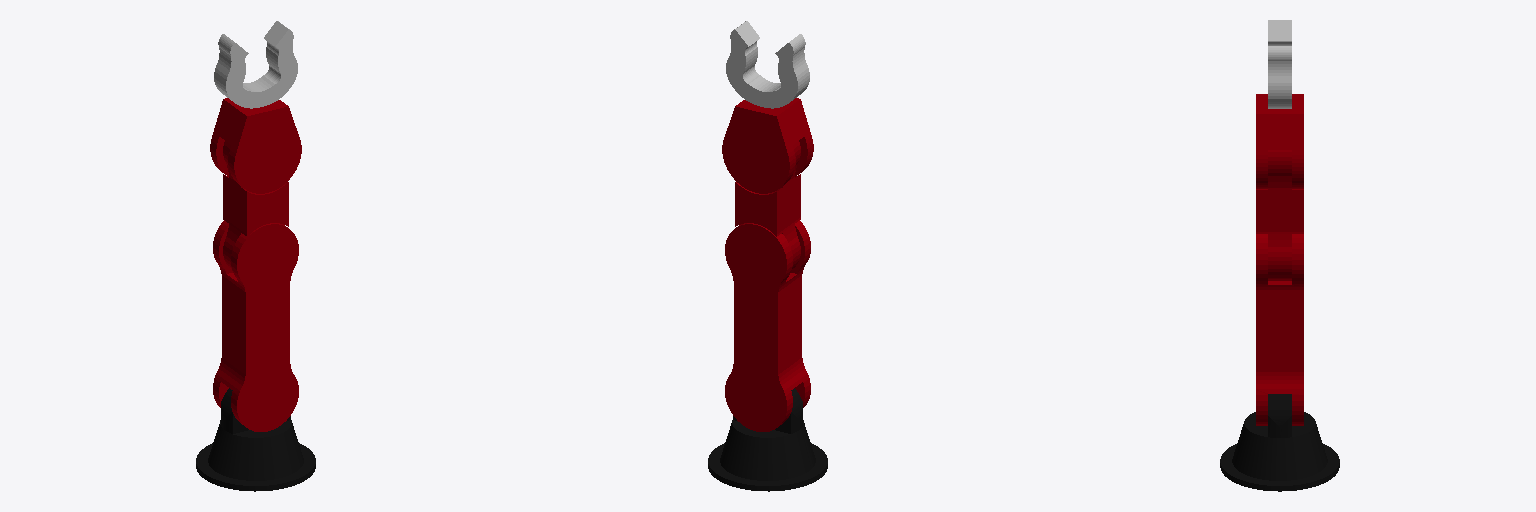
The robot description file, URDF, robot "my_4dof_arm":
<?xml version="1.0"?>
<robot name="my_4dof_arm">

    <link name="world"/>

    <joint name="base_joint" type="fixed">
        <parent link="world"/>
        <child link="base_link"/>
        <origin xyz="0 0 0" rpy="0 0 0"/>
    </joint>

    <link name="base_link">
        <visual>
            <geometry>
                <mesh filename="package://arm_4dof/meshes/base.STL" scale="1 1 1"/>
            </geometry>
            <origin xyz="0 0 0" rpy="0 0 0"/>
            <material name="black">
                <color rgba="0.1 0.1 0.1 1"/>
            </material>
        </visual>
    </link>

    <link name="base_rotate_link">
        <visual>
            <geometry>
                <mesh filename="package://arm_4dof/meshes/rotate_link.STL" scale="1 1 1"/>
            </geometry>
            <origin xyz="0 0 0" rpy="0 0 0"/>
            <material name="black">
                <color rgba="0.1 0.1 0.1 1"/> 
            </material>
        </visual>
    </link>

    <link name="shoulder_link">
        <visual>
            <geometry>
                <mesh filename="package://arm_4dof/meshes/shoulder_link.STL" scale="1 1 1"/>
            </geometry>
            <origin xyz="0 0 0" rpy="0 0 0"/>
            <material name="red">
                <color rgba="0.6 0.0 0.05 1"/>
            </material>
        </visual>
    </link>

    <link name="elbow_link">
        <visual>
            <geometry>
                <mesh filename="package://arm_4dof/meshes/elbow_link.STL" scale="1 1 1"/>
            </geometry>
            <origin xyz="0 0 0" rpy="0 0 0"/>
            <material name="red">
                <color rgba="0.6 0.0 0.05 1"/>
            </material>
        </visual>
    </link>

    <link name="wrist_link">
        <visual>
            <geometry>
                <mesh filename="package://arm_4dof/meshes/wrist_link.STL" scale="1 1 1"/>
            </geometry>
            <origin xyz="0 0 0" rpy="0 0 0"/>
            <material name="red">
                <color rgba="0.6 0.0 0.05 1"/>
            </material>
        </visual>
    </link>

    <link name="end_effector">
        <visual>
            <geometry>
                <mesh filename="package://arm_4dof/meshes/end_effector.STL" scale="1 1 1"/>
            </geometry>
            <origin xyz="0 0 0" rpy ="0 0 0"/>
            <material name="silver">
                <color rgba="0.75 0.75 0.75 1"/>
            </material>
        </visual>
    </link>

    <joint name="base_rotate_joint" type="revolute">
        <parent link="base_link"/>
        <child link="base_rotate_link"/>
        <origin xyz="0 0 0.05" rpy="0 0 0"/>
        <axis xyz="0 0 1"/>
        <limit lower="0" upper="3.14" effort="100" velocity="1"/>
    </joint>

    <joint name="shoulder_joint" type="revolute">
        <parent link="base_rotate_link"/>
        <child link="shoulder_link"/>
        <origin xyz="0 0 0.65" rpy="0 0 0"/>
        <axis xyz="0 1 0"/>
        <limit lower="-1.57" upper="1.57" effort="100" velocity="1"/>
    </joint>
    
    <joint name="elbow_joint" type="revolute">
        <parent link="shoulder_link"/>
        <child link="elbow_link"/>
        <origin xyz="0 0 1.3" rpy="0 0 0" />
        <axis xyz="0 1 0"/>
        <limit lower="-1.57" upper="1.57" effort="100" velocity="1"/>
    </joint>

    <joint name="wrist_joint" type="revolute">
        <parent link="elbow_link"/>
        <child link="wrist_link"/>
        <origin xyz="0 0 0.92" rpy="0 0 0" />
        <axis xyz="0 1 0"/>
        <limit lower="-1.57" upper="1.57" effort="100" velocity="1"/>
    </joint>

    <joint name="endeffector" type="fixed">
        <parent link="wrist_link"/>
        <child link="end_effector"/>
        <origin xyz="0 0 0.425" rpy="0 0 0" />
    </joint>

</robot>

--- What the picture shows (computed from the rendered views, not written in the file) ---
The picture shows the robot from 3 angles, left to right: view 1: azimuth 30°, elevation 25°; view 2: azimuth 150°, elevation 25°; view 3: azimuth 270°, elevation 25°; orthographic projection.
Robot: my_4dof_arm — 7 links, 6 joints (4 revolute, 2 fixed); root link world; default pose: all joints at 0.
Visible links, largest first — view 1: shoulder_link, wrist_link, base_rotate_link, end_effector, elbow_link, base_link; view 2: shoulder_link, wrist_link, base_rotate_link, end_effector, elbow_link, base_link; view 3: shoulder_link, base_rotate_link, elbow_link, wrist_link, end_effector, base_link.
Link boxes in pixels (x1=…): shoulder_link: x1=213, y1=220, x2=298, y2=431; wrist_link: x1=210, y1=98, x2=301, y2=193; base_rotate_link: x1=208, y1=388, x2=303, y2=480; end_effector: x1=214, y1=21, x2=297, y2=108; elbow_link: x1=223, y1=141, x2=288, y2=268; base_link: x1=196, y1=443, x2=315, y2=491; shoulder_link: x1=725, y1=220, x2=810, y2=431; wrist_link: x1=722, y1=98, x2=813, y2=193; base_rotate_link: x1=720, y1=388, x2=815, y2=480; end_effector: x1=726, y1=21, x2=809, y2=108; elbow_link: x1=735, y1=141, x2=800, y2=268; base_link: x1=708, y1=443, x2=827, y2=491; shoulder_link: x1=1256, y1=234, x2=1303, y2=425; base_rotate_link: x1=1232, y1=394, x2=1327, y2=480; elbow_link: x1=1256, y1=150, x2=1303, y2=280; wrist_link: x1=1256, y1=94, x2=1303, y2=188; end_effector: x1=1268, y1=20, x2=1291, y2=108; base_link: x1=1220, y1=444, x2=1339, y2=491.
Size in the robot's own frame: 1 by 0.9997 by 4 metres.
6 mesh visuals loaded from 6 distinct referenced files (6 binary STL).
